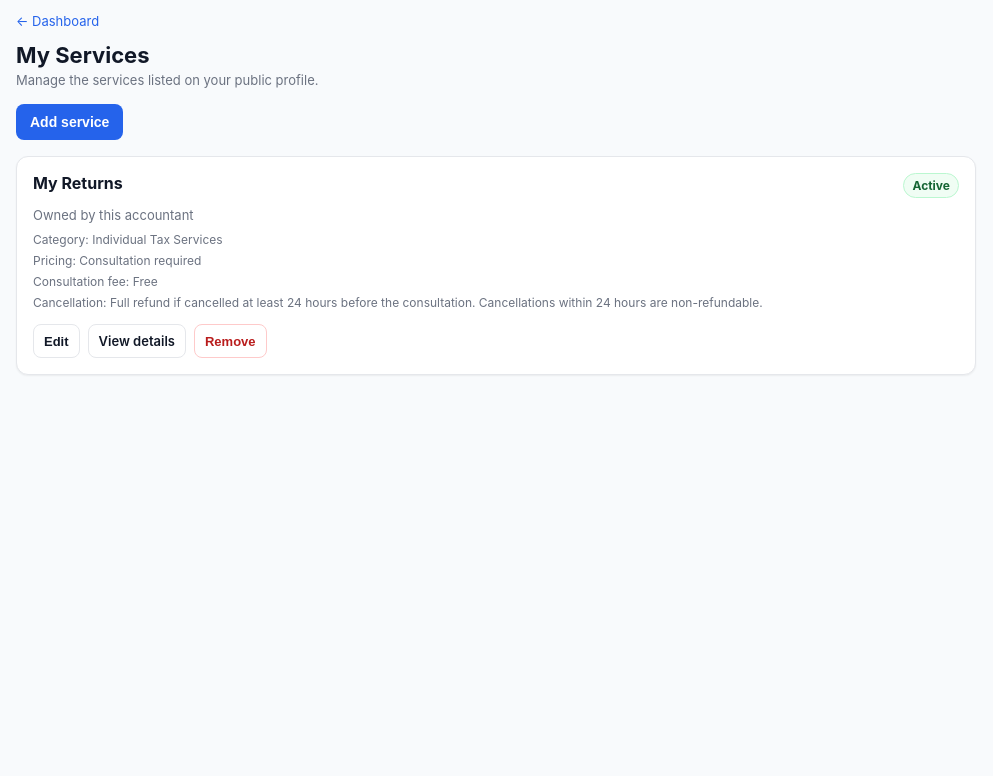
Test: accountant can create a service with a selected category_id
Check: the text "My Returns" is shown, box [33, 173, 123, 198]
Click the button "Add service" at (70, 122), box [16, 104, 123, 140]
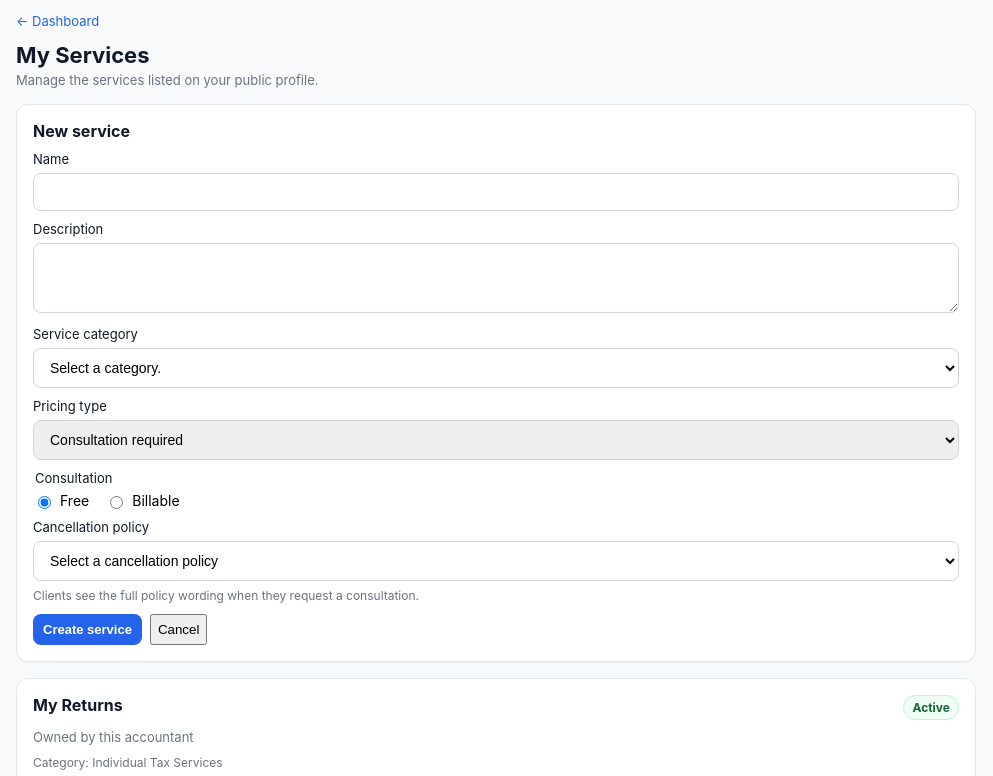
Check: the text "New service" is shown, box [33, 121, 130, 141]
Check: the dropdown labelled "Service category" is enabled, box [33, 348, 959, 388]
Type "Business taxes" into the field labelled "Name" at (496, 192), box [33, 173, 959, 211]
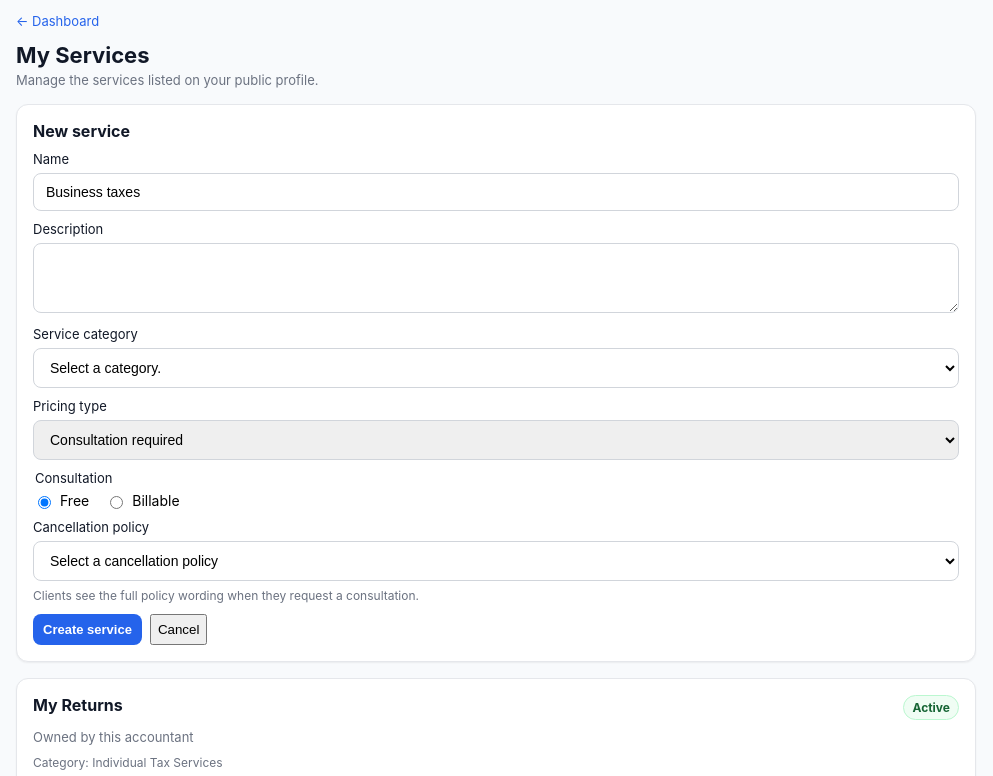
Type "S-corp and partnership returns" into the text box labelled "Description" at (496, 278), box [33, 243, 959, 313]
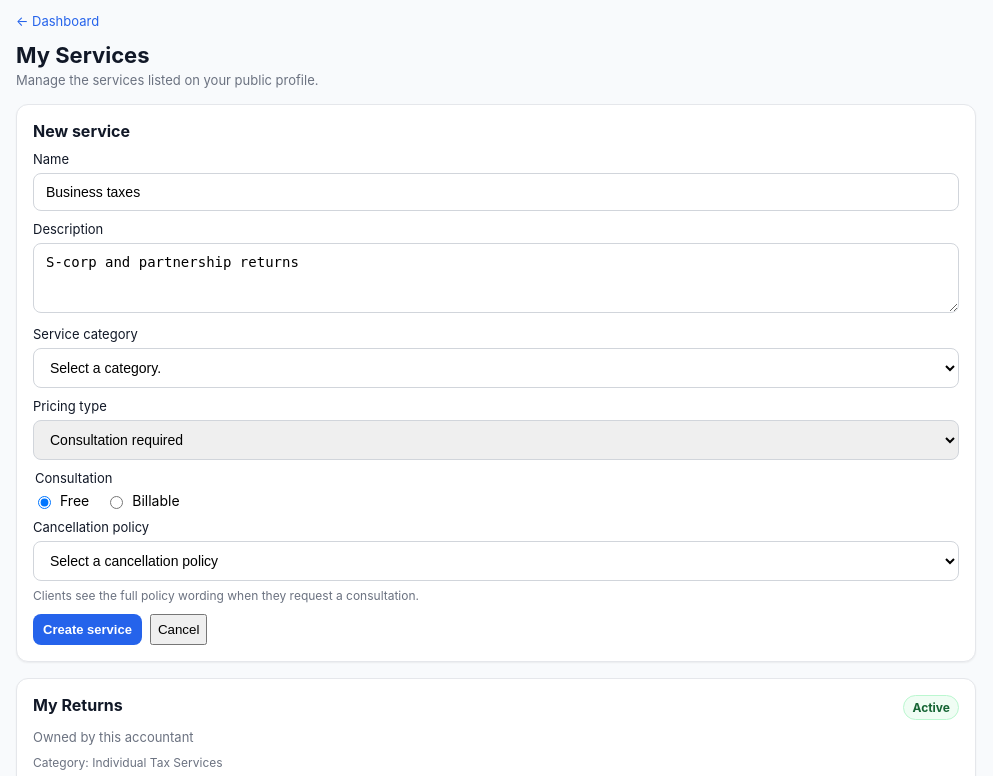
Select "Bookkeeping" in the dropdown labelled "Service category" at (496, 368), box [33, 348, 959, 388]
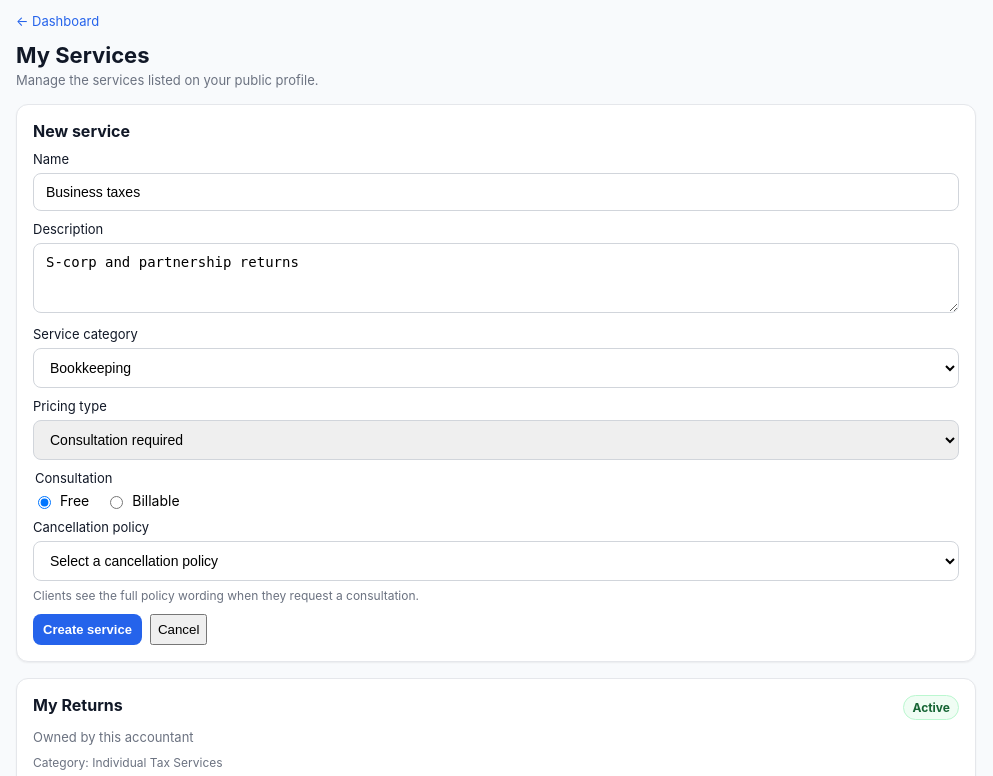
Check: the dropdown labelled "Cancellation policy" is enabled
Select "Full refund if cancelled at least 24 hours before the consultation. Cancellation" in the dropdown labelled "Cancellation policy" at (496, 561), box [33, 541, 959, 581]
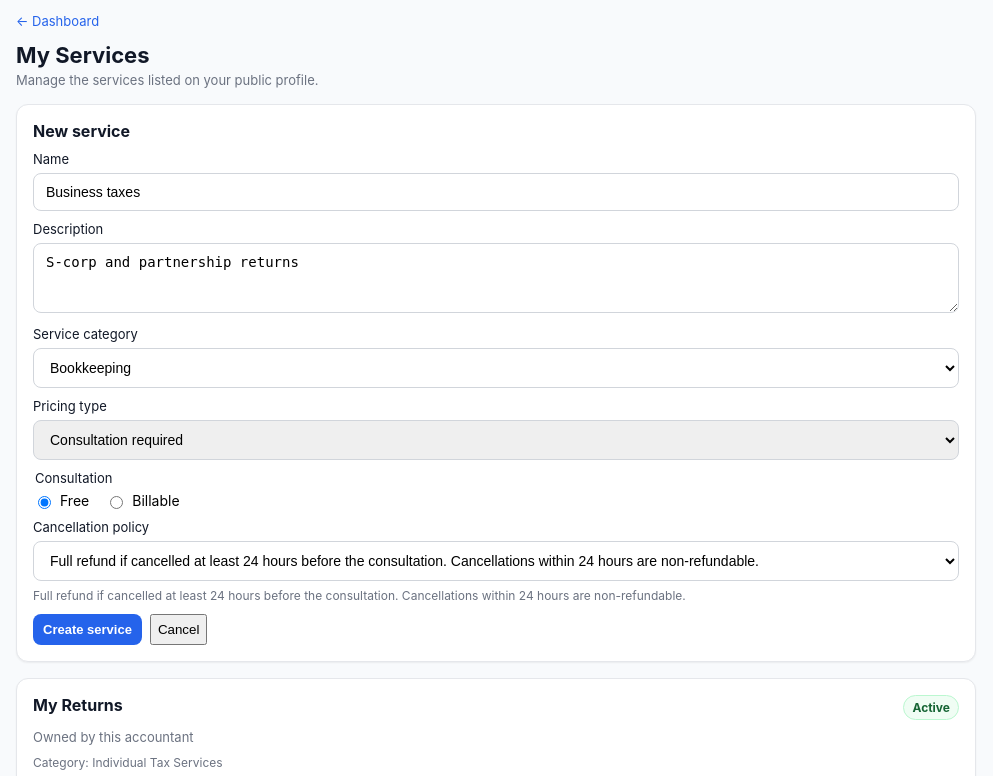
Click the button "Create service" at (87, 630), box [33, 614, 142, 645]
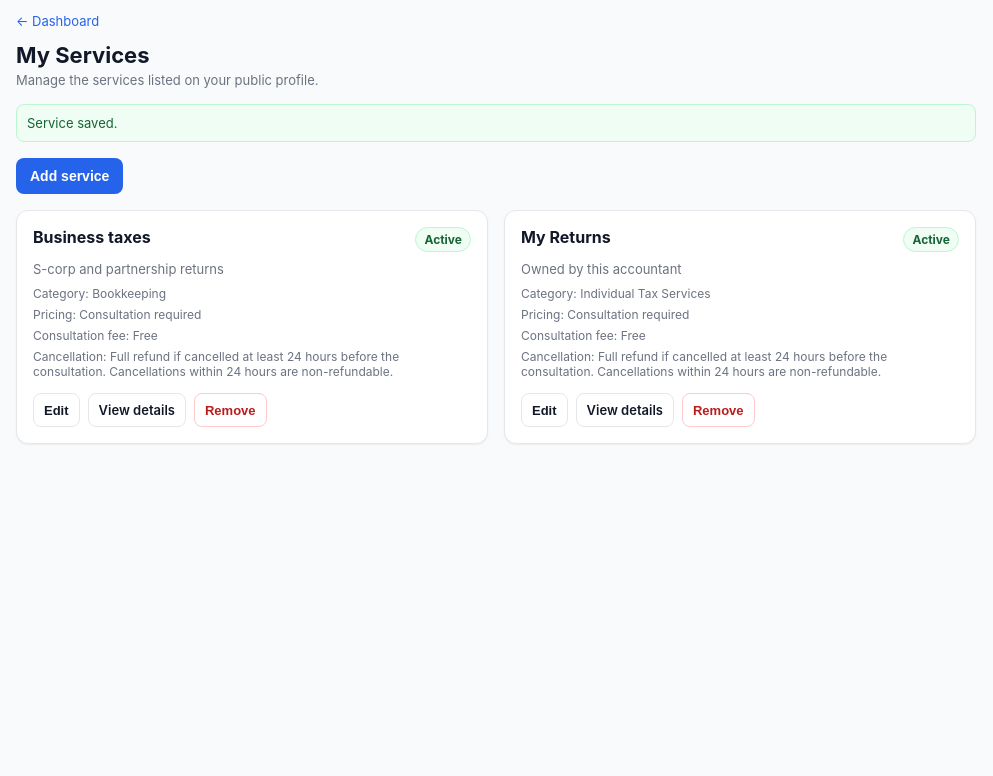
Check: the text "Business taxes" is shown, box [33, 227, 151, 252]
